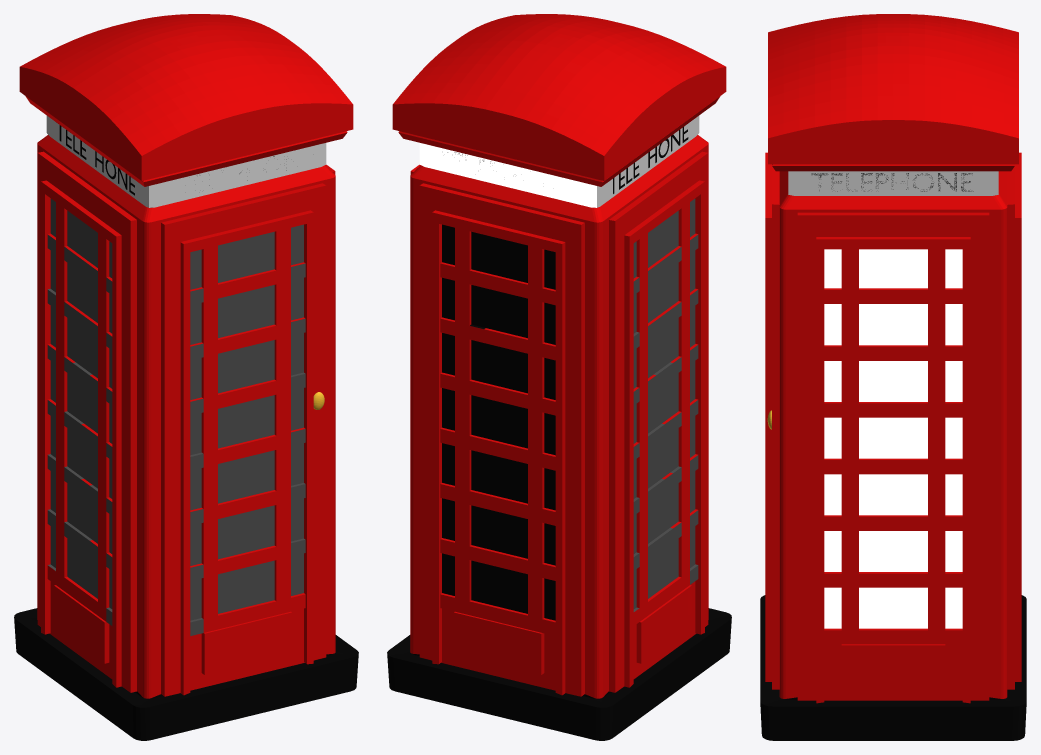
Rendered from telephoneBooth.glb.
3 views of the same model, side by side, from view 1: azimuth 30°, elevation 25°; view 2: azimuth 150°, elevation 25°; view 3: azimuth 270°, elevation 25° (orthographic). The views are drawn at different scales.
Parts seen in each view (by area): view 1: both; view 2: both; view 3: both, Text.001.
Part boxes in pixels (x1,y1,x2,y2): both: [14, 14, 358, 740]; both: [387, 14, 731, 740]; both: [760, 14, 1026, 740]; Text.001: [811, 173, 973, 191].
Size of the model in its own units: 1.17 by 3.13 by 1.17.
